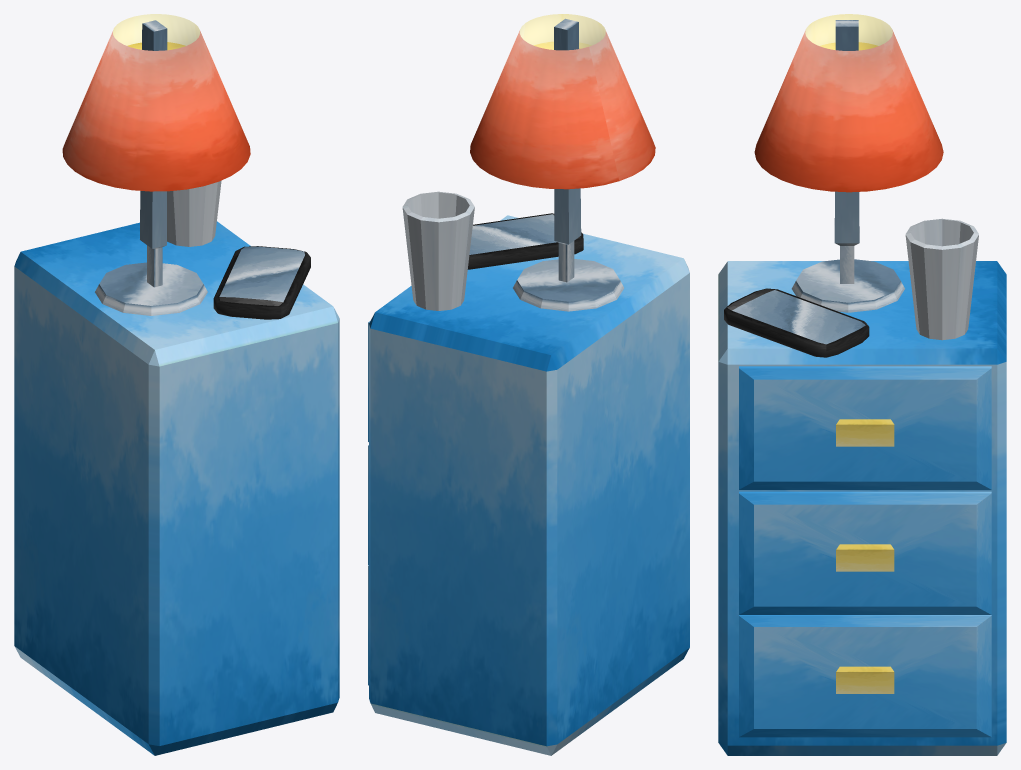
The model's file is Obj_BedSideDrawer_collider.gltf.
3 renders of one model, left to right at view 1: azimuth 30°, elevation 25°; view 2: azimuth 150°, elevation 25°; view 3: azimuth 270°, elevation 25°, orthographic.
Visible parts, largest first — view 1: Obj.BedSideDrawer; view 2: Obj.BedSideDrawer; view 3: Obj.BedSideDrawer.
Part boxes in pixels (x1=…): Obj.BedSideDrawer: x1=14, y1=14, x2=339, y2=755; Obj.BedSideDrawer: x1=368, y1=14, x2=689, y2=755; Obj.BedSideDrawer: x1=718, y1=14, x2=1006, y2=755.
Size of what is drawn, in the model's own units: 0.9047 by 2.63 by 1.02.
Materials: 1 (1 with a texture image).
